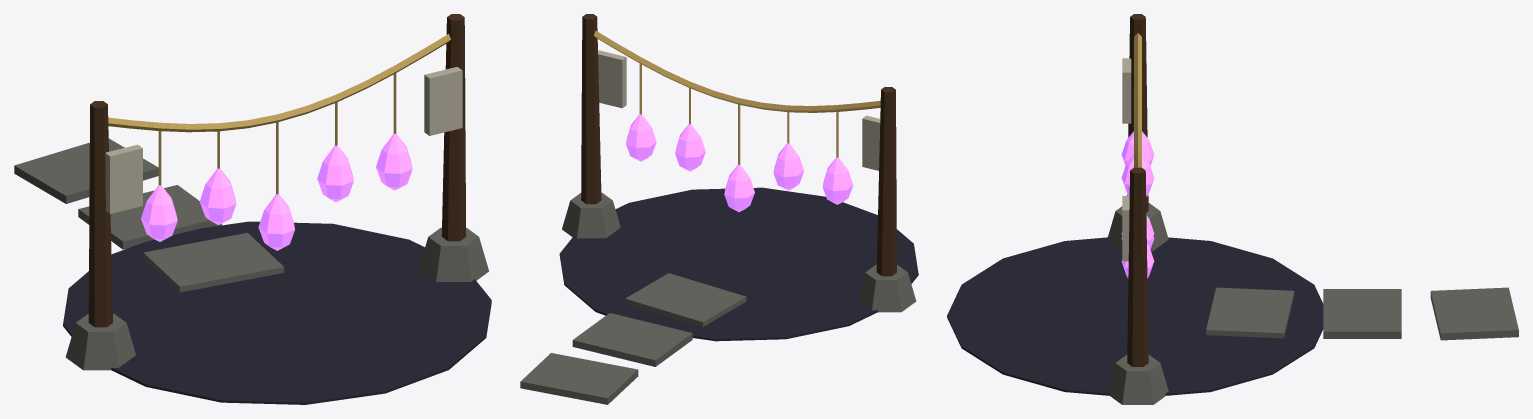
File: prop_soulpath_gate.glb
3 views of the same model, side by side, from view 1: azimuth 30°, elevation 25°; view 2: azimuth 150°, elevation 25°; view 3: azimuth 270°, elevation 25° (orthographic). The views are drawn at different scales.
Visible parts, largest first — view 1: prop_soulpath_gate; view 2: prop_soulpath_gate; view 3: prop_soulpath_gate.
Part boxes in pixels (x1,y1,x2,y2): prop_soulpath_gate: [14, 14, 491, 404]; prop_soulpath_gate: [520, 14, 918, 404]; prop_soulpath_gate: [947, 14, 1518, 404].
Size of the model in its own units: 3.68 by 2.2 by 5.09.
